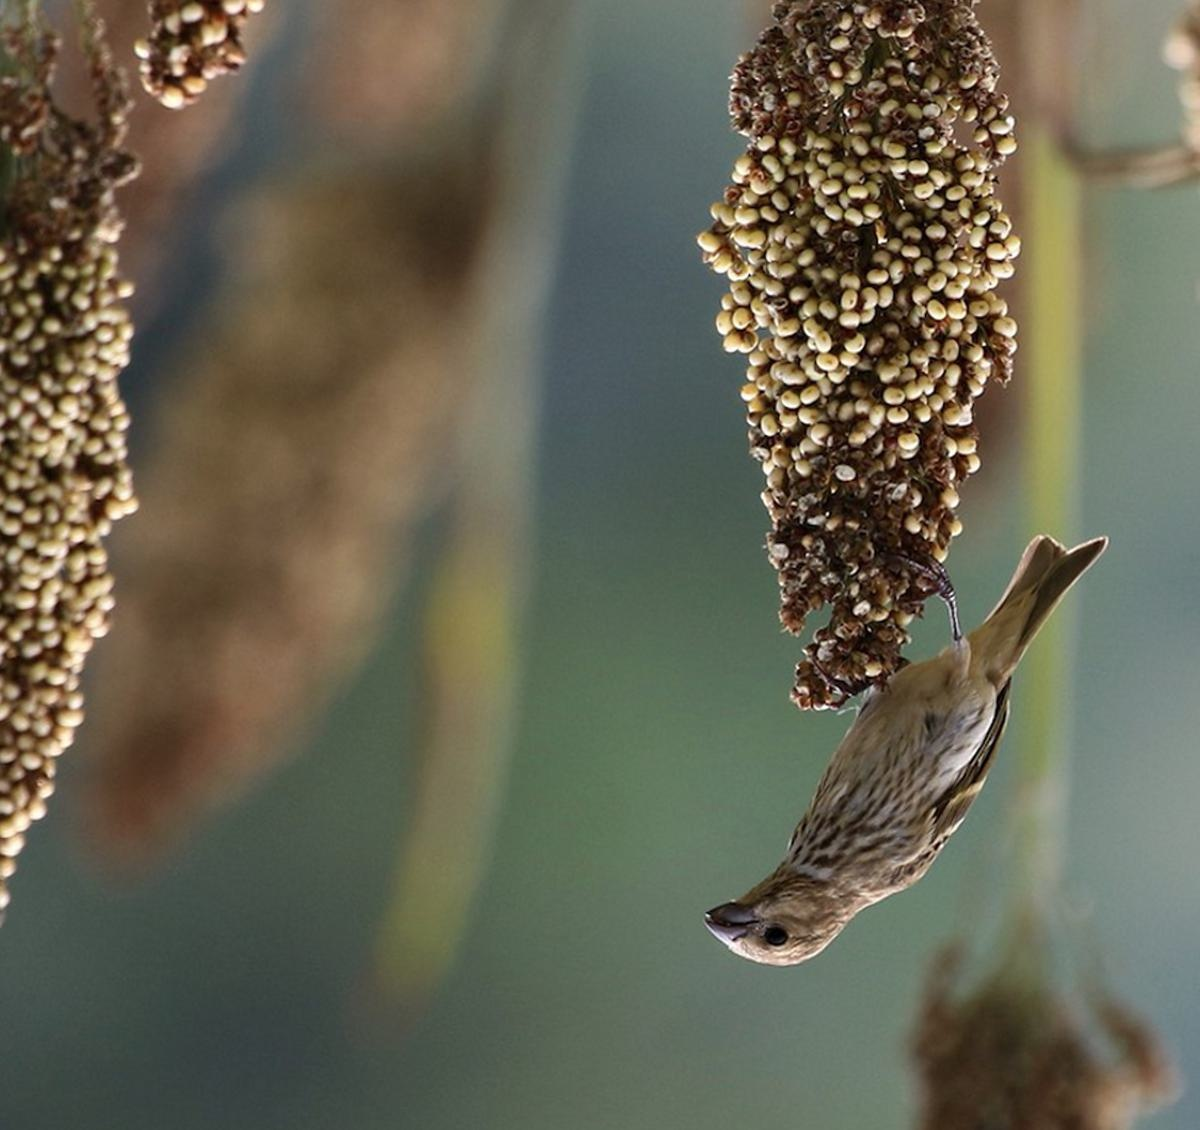rosefinch: (678, 520, 1194, 974)
